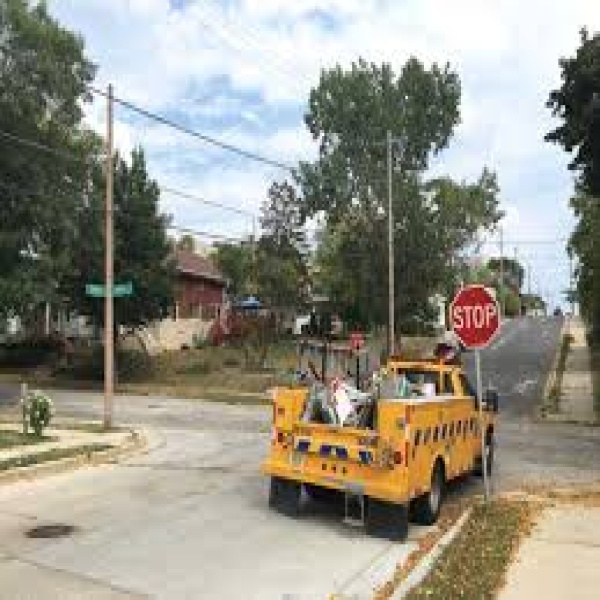stop: (451, 282, 497, 348)
